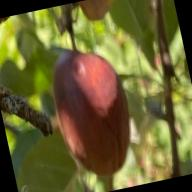Apples: (44, 40, 143, 183)
